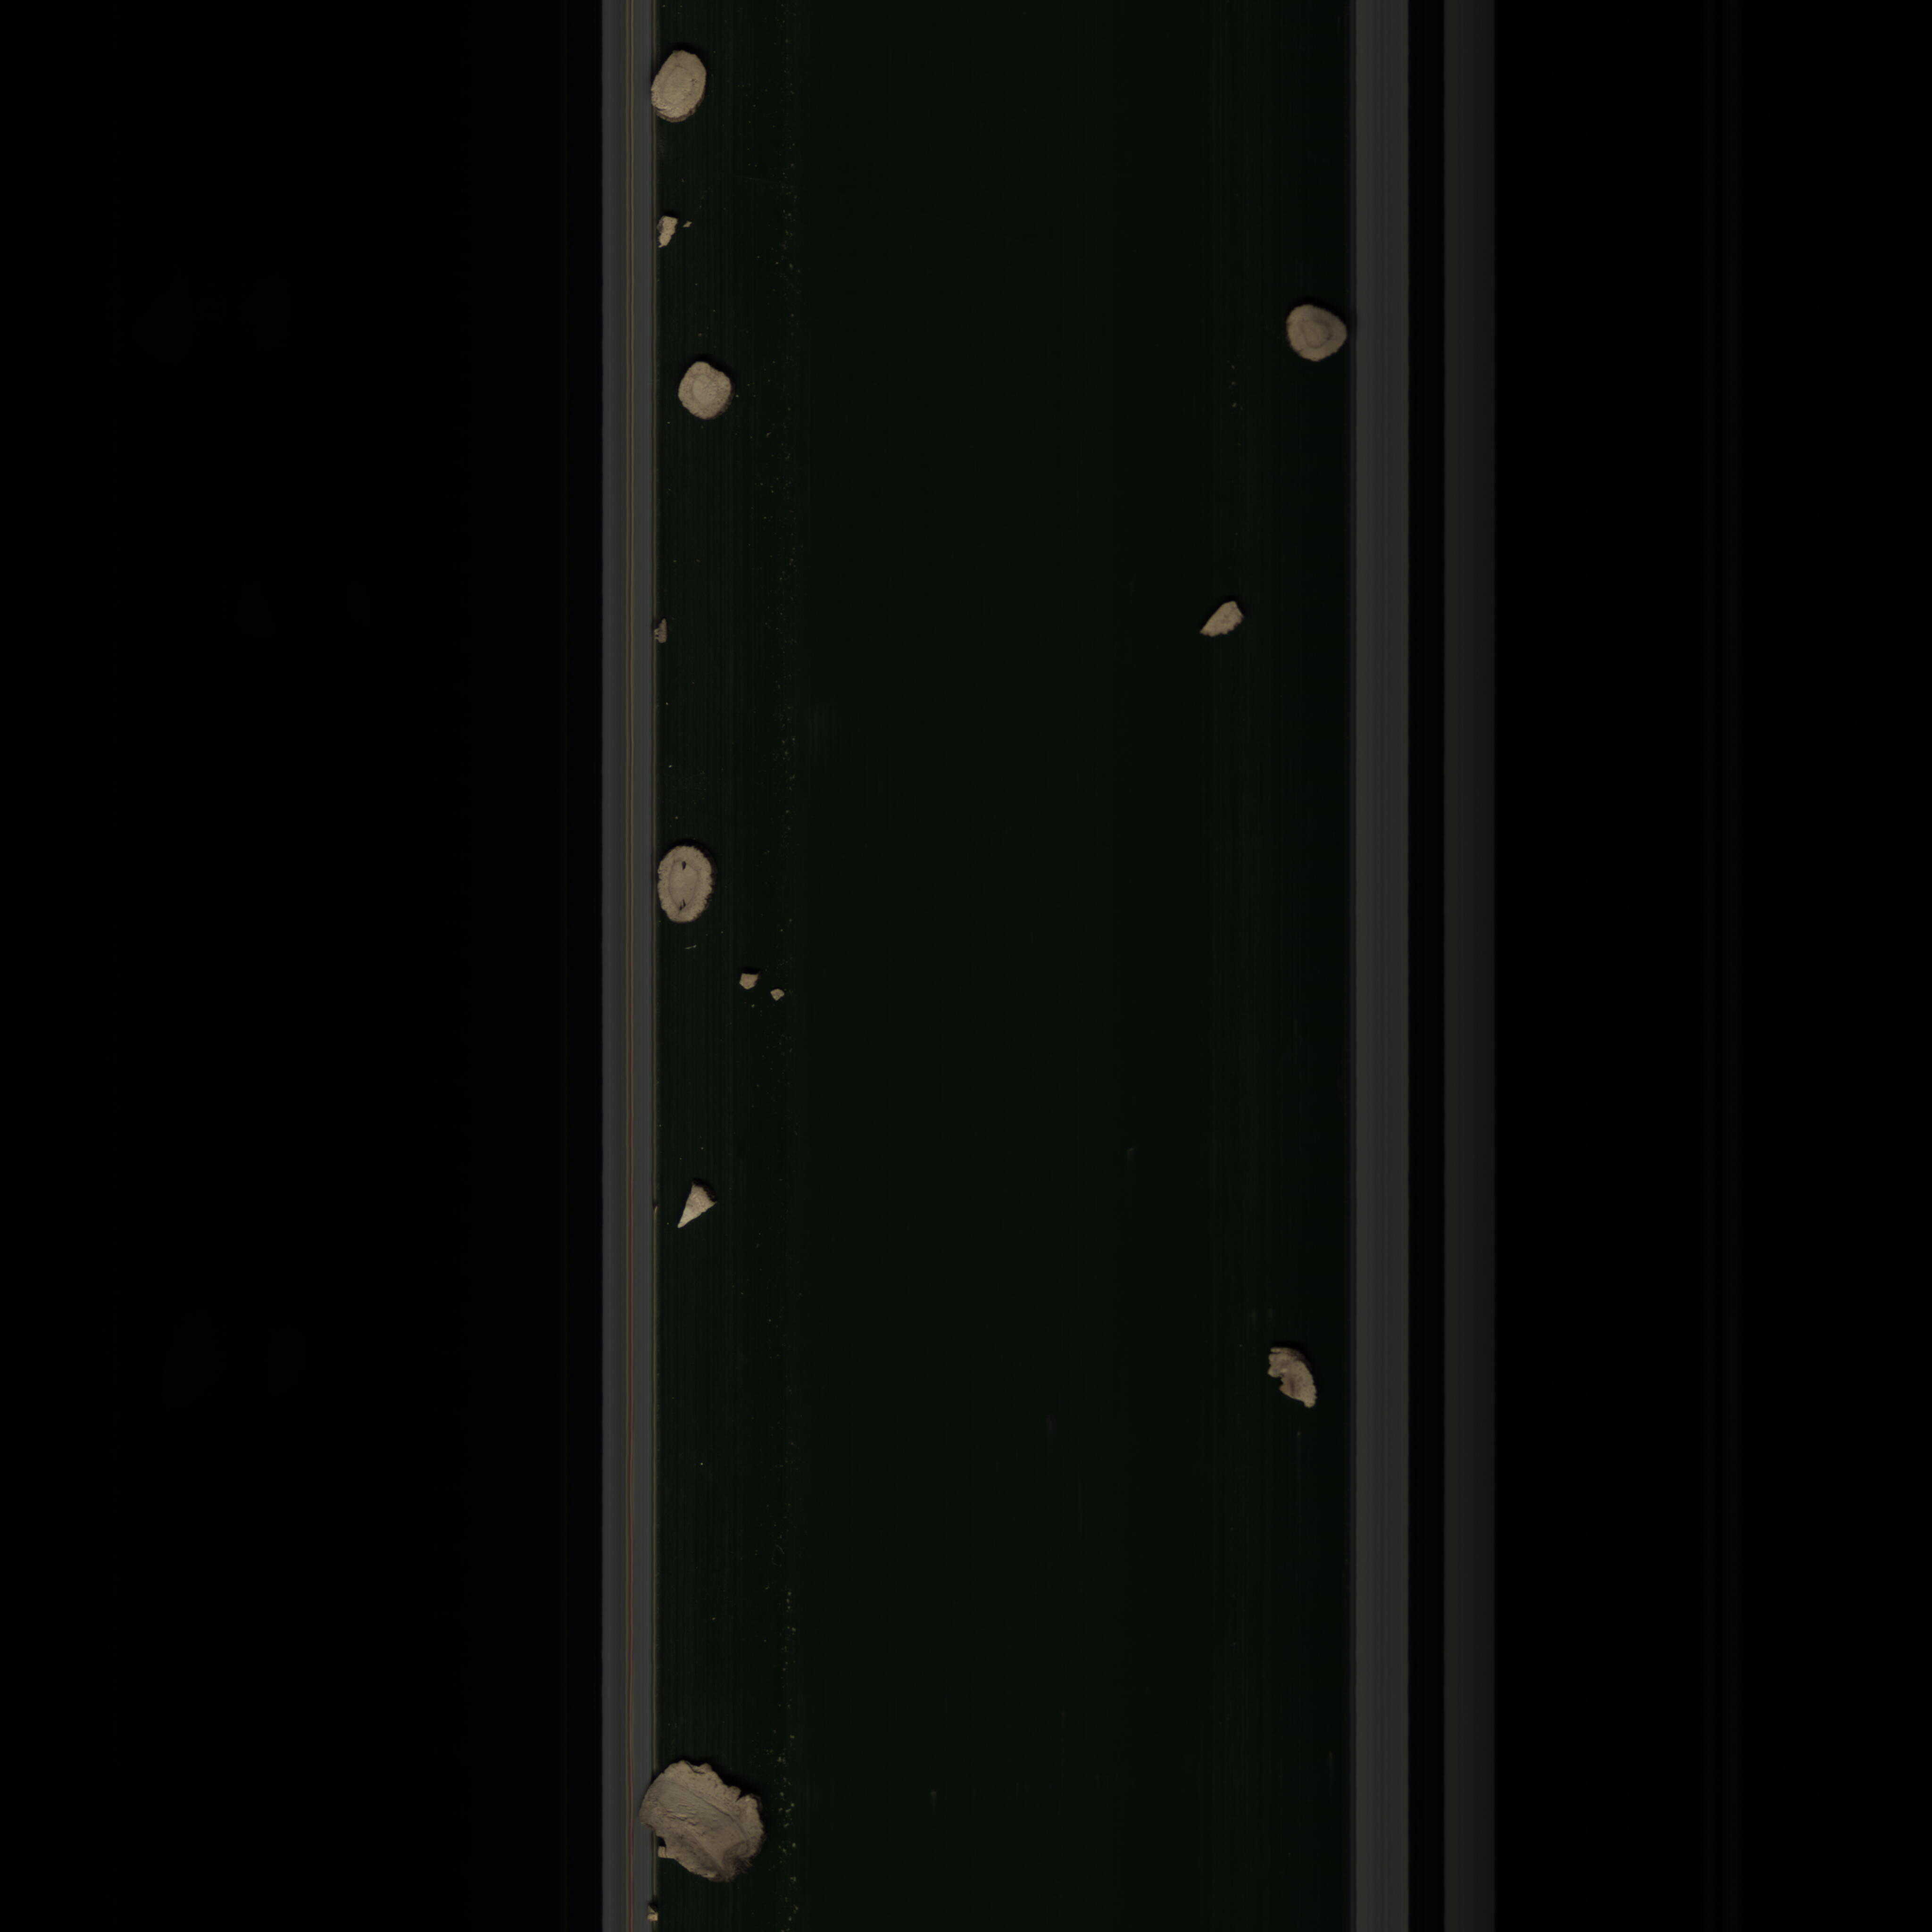bark: (639, 1748, 764, 1891), (1256, 1341, 1323, 1419)
debris: (1191, 591, 1249, 644), (672, 1178, 725, 1235), (655, 209, 702, 253), (732, 966, 764, 994), (766, 987, 793, 1005)
